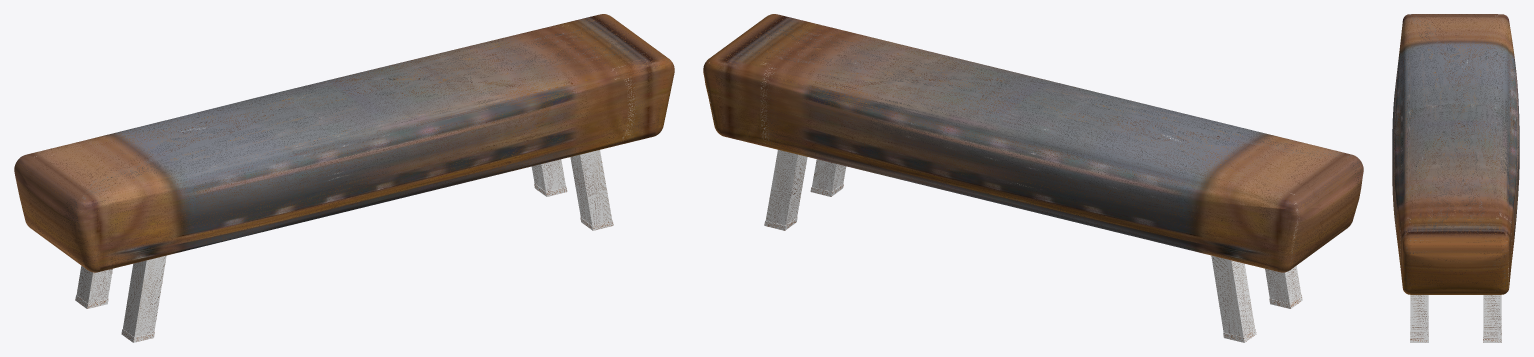
3 renders of one model, left to right at view 1: azimuth 30°, elevation 25°; view 2: azimuth 150°, elevation 25°; view 3: azimuth 270°, elevation 25°, orthographic. The views are drawn at different scales.
Visible parts, largest first — view 1: mesh5_mesh5-geometry, mesh3_mesh3-geometry, mesh1_mesh1-geometry; view 2: mesh5_mesh5-geometry, mesh3_mesh3-geometry, mesh1_mesh1-geometry; view 3: mesh5_mesh5-geometry, mesh1_mesh1-geometry.
Boxes of the visible parts, x1,y1,x2,y2 form: mesh5_mesh5-geometry: (14,14,674,272); mesh3_mesh3-geometry: (75,255,166,342); mesh1_mesh1-geometry: (531,150,613,230); mesh5_mesh5-geometry: (703,14,1363,272); mesh3_mesh3-geometry: (1211,255,1302,342); mesh1_mesh1-geometry: (764,150,846,230); mesh5_mesh5-geometry: (1392,14,1519,294); mesh1_mesh1-geometry: (1410,295,1501,342).
Bounding box in the file's own units: 0.9441 × 0.2476 × 0.2175.
